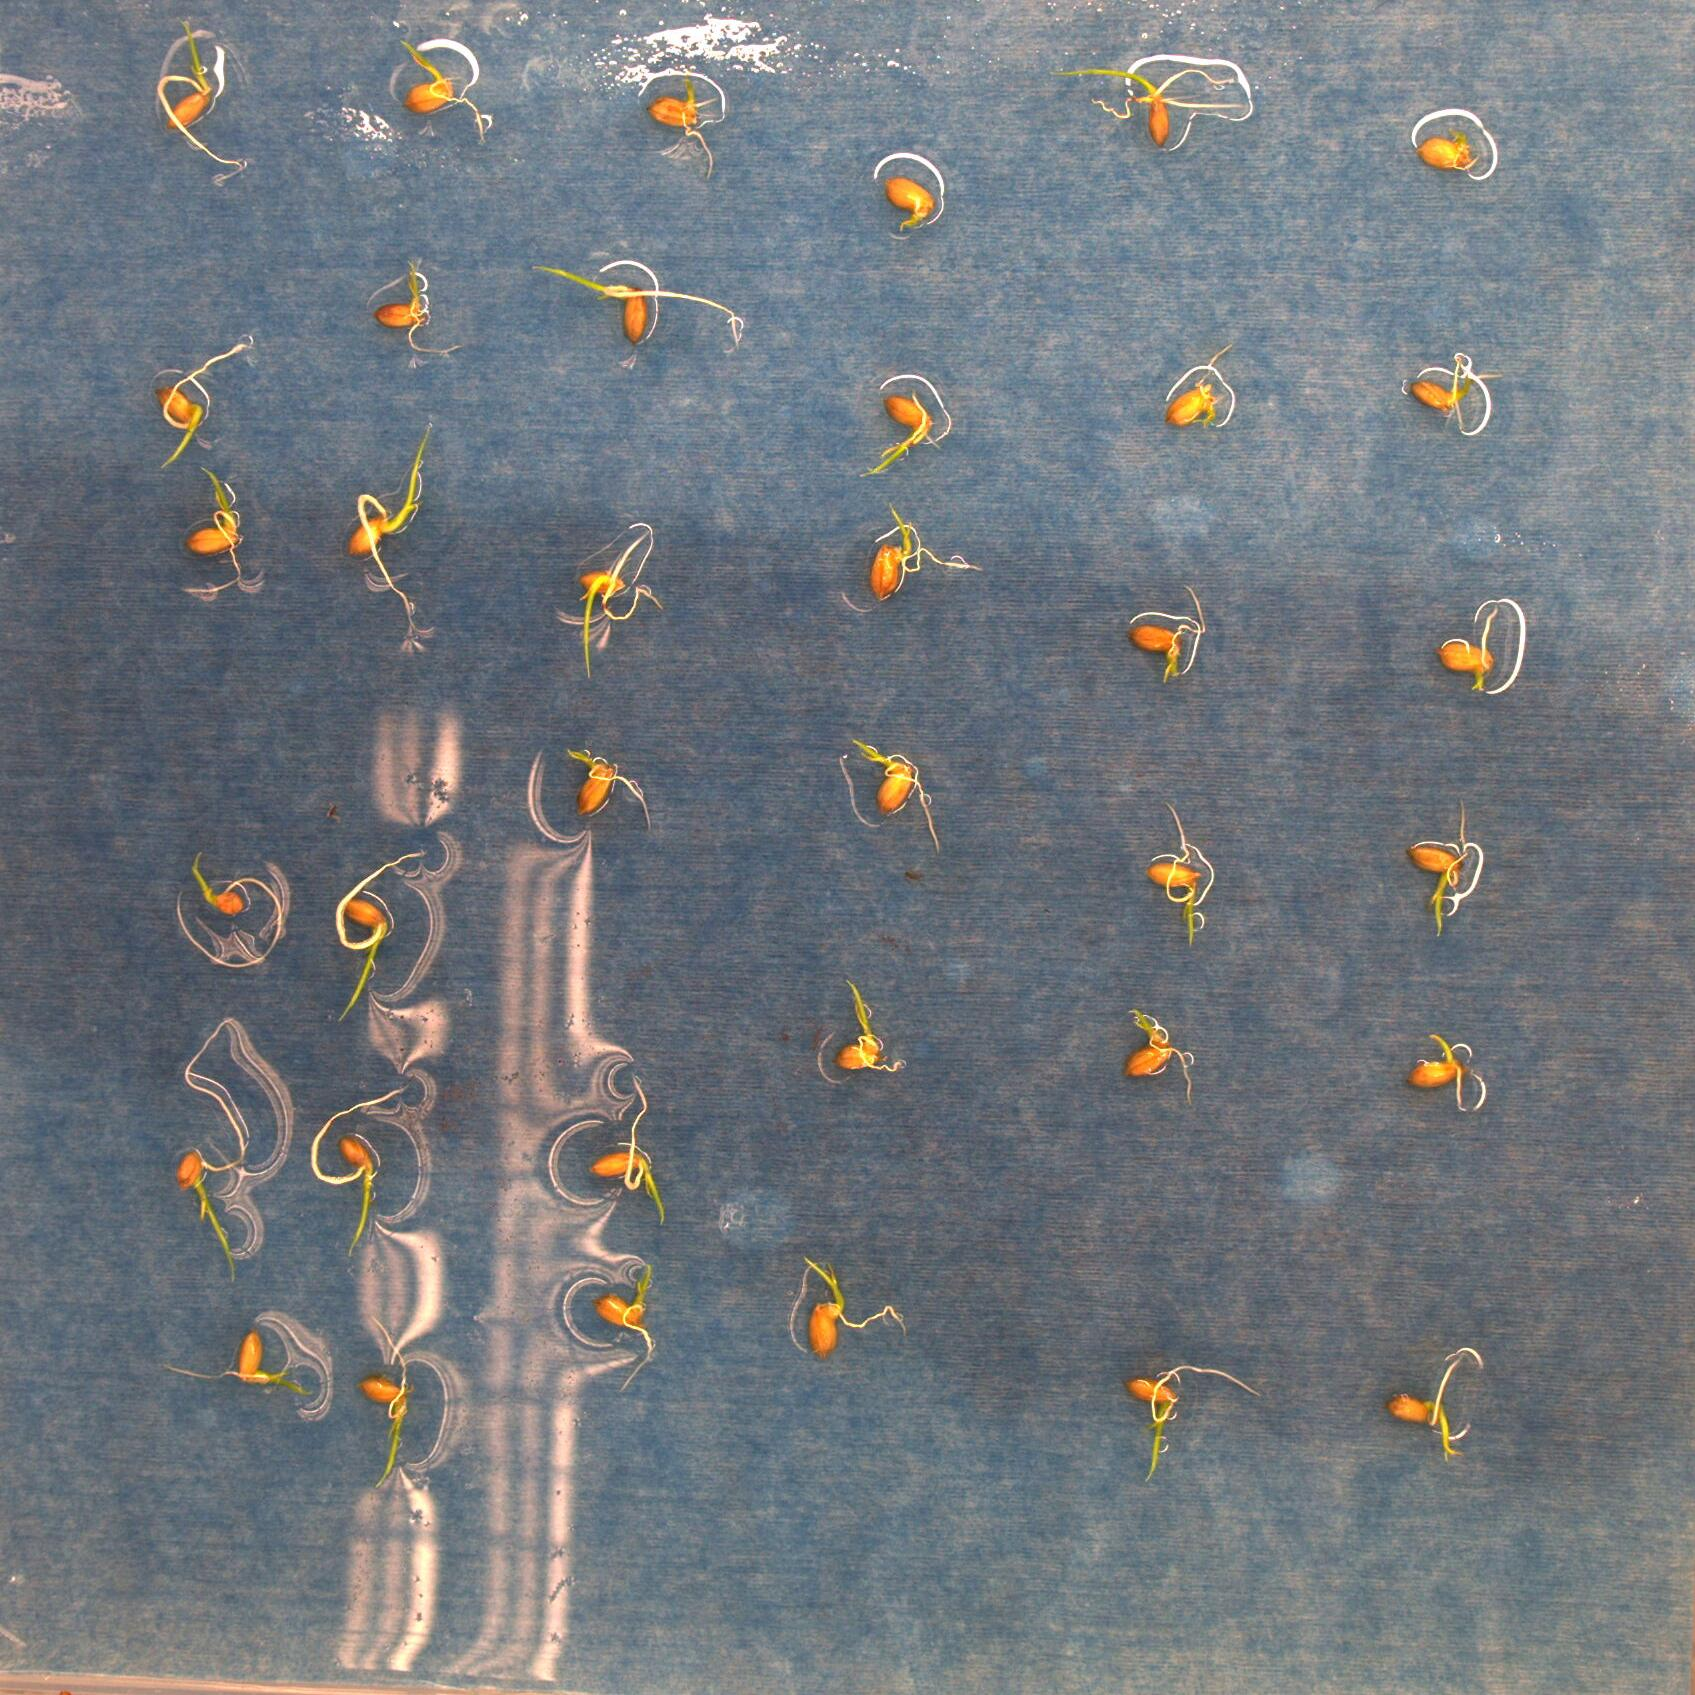not sprout: (1444, 608, 1498, 695), (888, 175, 933, 234)
sprout: (172, 1018, 289, 1288), (537, 256, 742, 345), (348, 424, 430, 633), (1122, 1361, 1260, 1485), (1051, 64, 1256, 146), (334, 851, 421, 1024), (844, 509, 979, 618), (314, 1093, 405, 1246), (151, 29, 248, 171), (151, 345, 255, 469), (174, 851, 281, 970), (584, 534, 669, 678), (591, 1073, 667, 1225), (399, 42, 495, 152), (179, 466, 262, 591), (166, 1326, 310, 1399), (851, 737, 942, 851), (796, 1256, 903, 1352), (820, 976, 903, 1087), (1406, 799, 1470, 942), (1388, 1346, 1467, 1458), (588, 1265, 658, 1391), (362, 1309, 411, 1484), (1146, 804, 1203, 944), (650, 65, 722, 177), (368, 261, 447, 355), (861, 383, 938, 481), (1132, 587, 1208, 681), (1403, 352, 1496, 428), (573, 750, 655, 829), (1122, 1007, 1191, 1097), (1163, 343, 1237, 425), (1409, 1029, 1471, 1107), (1419, 116, 1482, 168)
